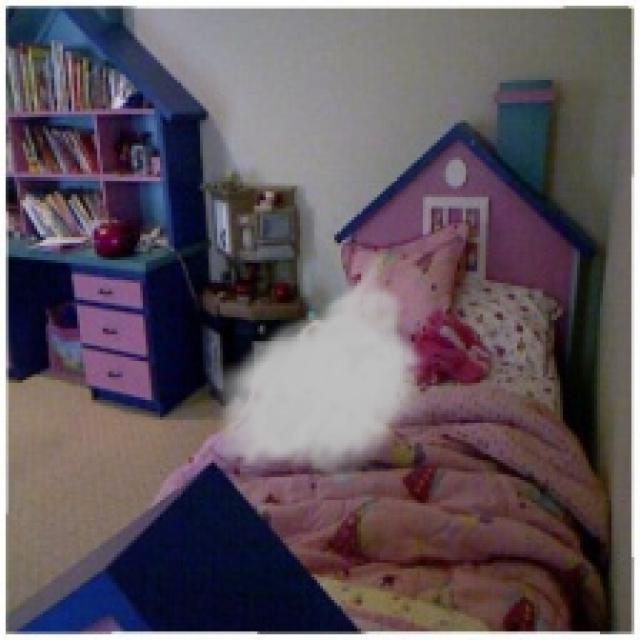smoke: (203, 240, 431, 483)
